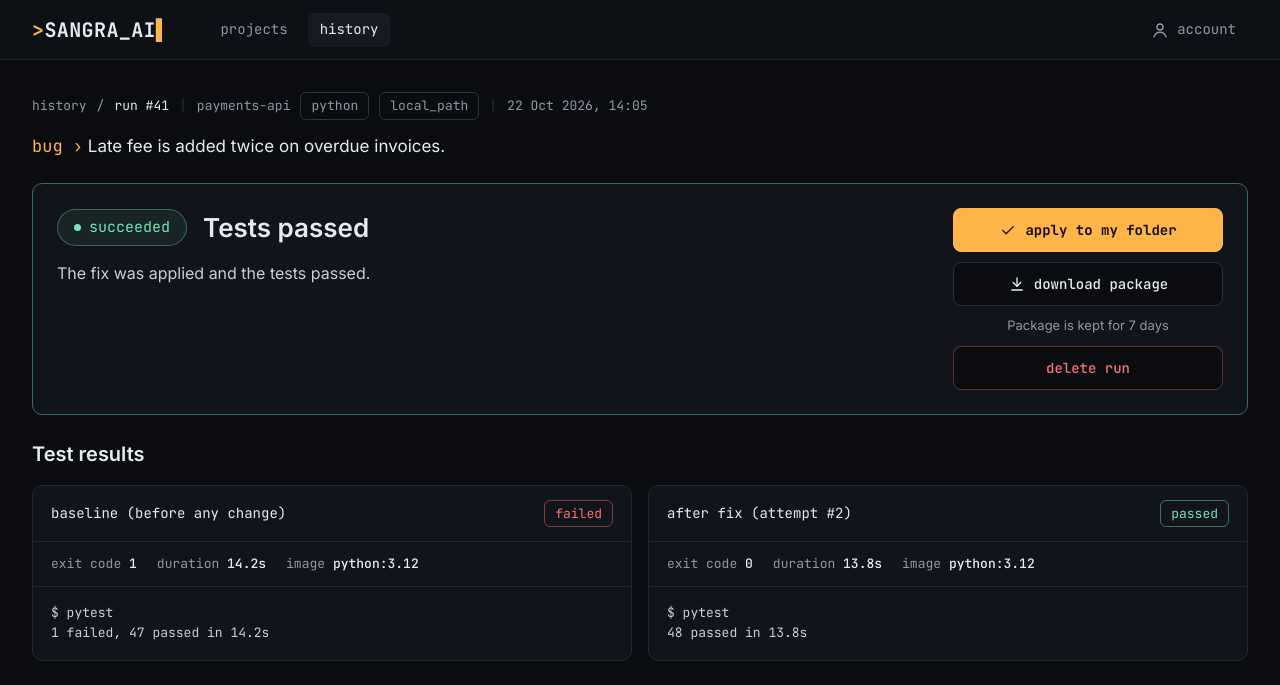
Test: problems › FE6-X05: a failed download (network) -> a message and a retry that works
Expected: the element named "result" is shown, [32,183,1248,414]
Click the button "download package". click: (1088,284)
box: [953,262,1223,306]
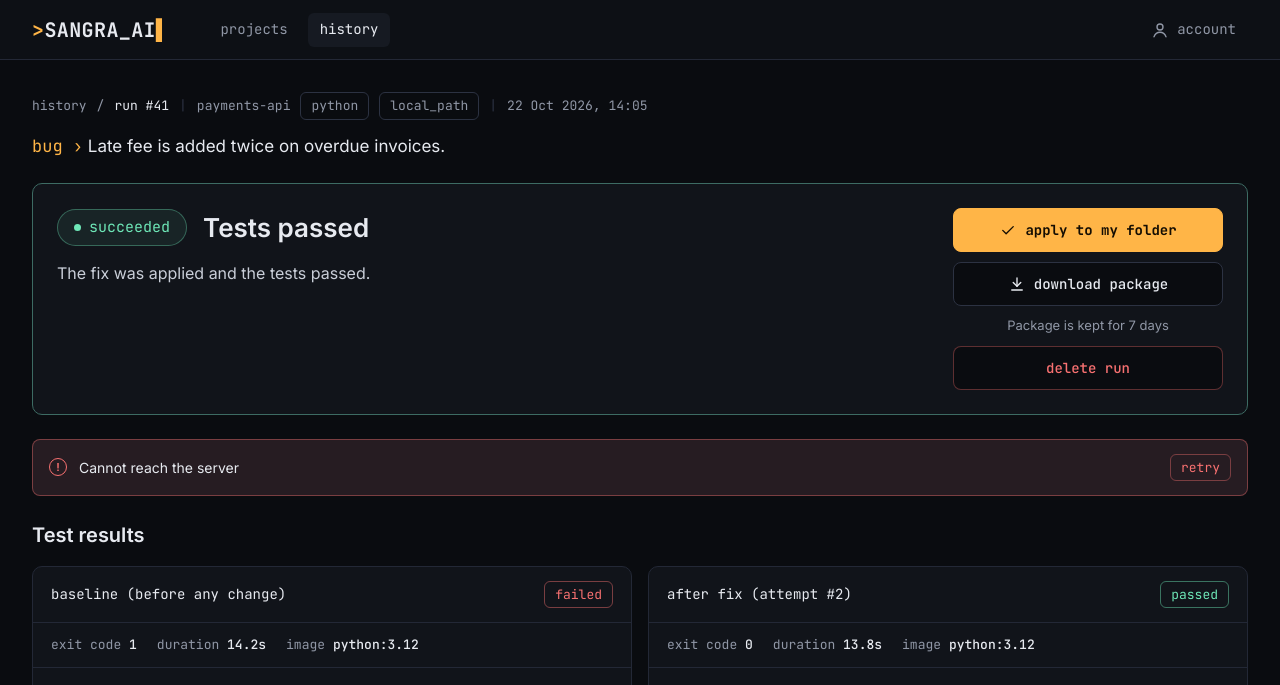
Now the message shows "Cannot reach the server", box [79,458,239,476]
Click the button "retry". click: (1200,467)
box: [1170,454,1231,480]
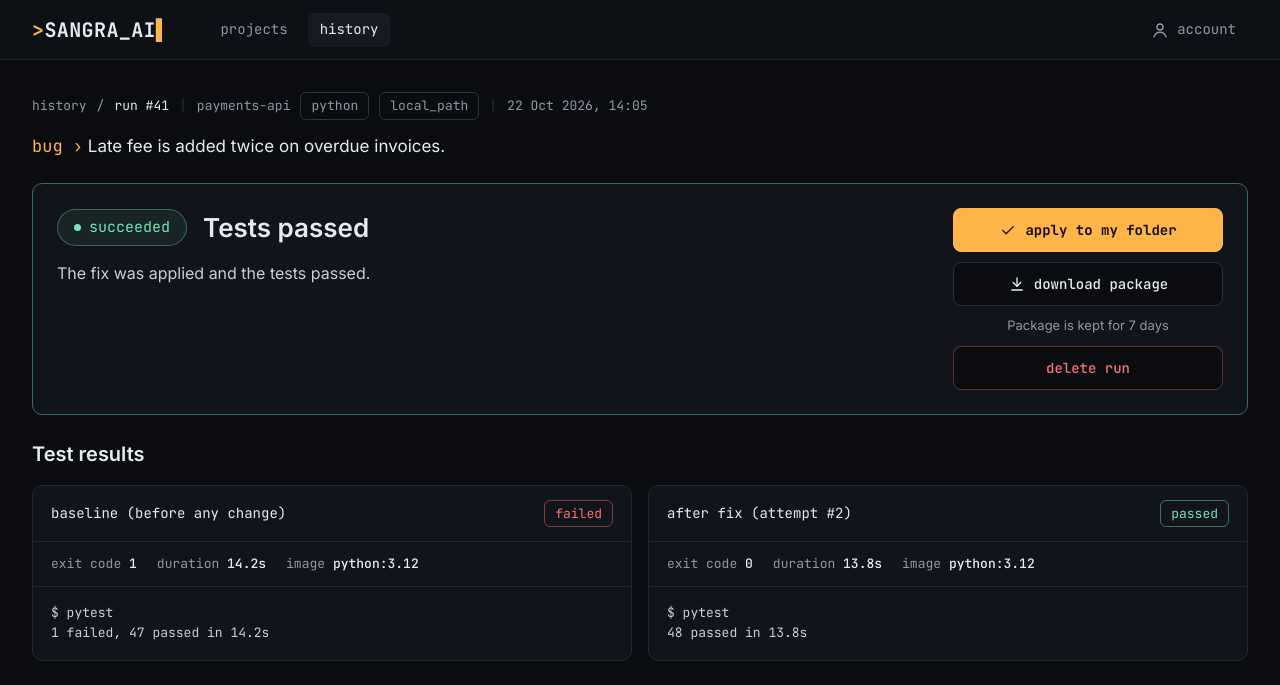
Now the message "! Cannot reach the server retry" is gone
